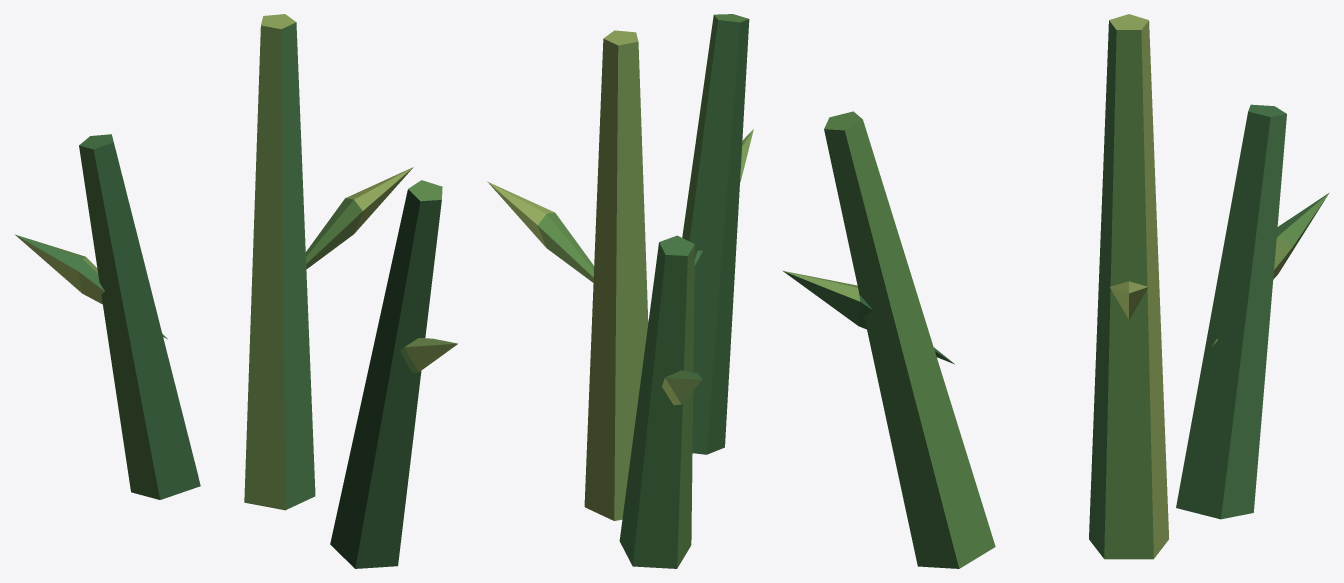
The model's file is farm-wheat-seedling.glb.
3 renders of one model, left to right at view 1: azimuth 30°, elevation 25°; view 2: azimuth 150°, elevation 25°; view 3: azimuth 270°, elevation 25°, orthographic. The views are drawn at different scales.
Visible parts, largest first — view 1: farm-wheat-seedling; view 2: farm-wheat-seedling; view 3: farm-wheat-seedling.
Boxes of the visible parts, x1=… form: farm-wheat-seedling: x1=15, y1=14, x2=457, y2=568; farm-wheat-seedling: x1=487, y1=14, x2=753, y2=568; farm-wheat-seedling: x1=782, y1=14, x2=1328, y2=568.
Bounding box in the file's own units: 0.1118 × 0.1663 × 0.1557.
